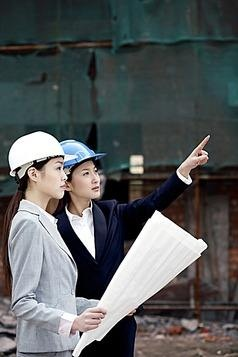blue: (57, 137, 104, 202)
white: (8, 129, 71, 203)
